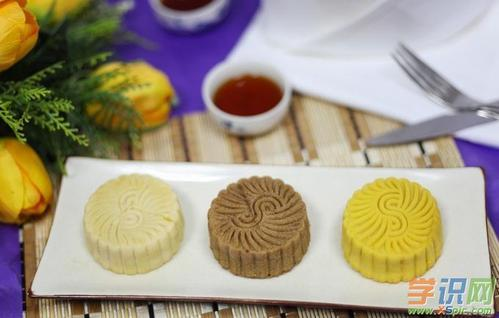MoonCake: (206, 176, 310, 280), (340, 178, 442, 284), (82, 172, 182, 274)
